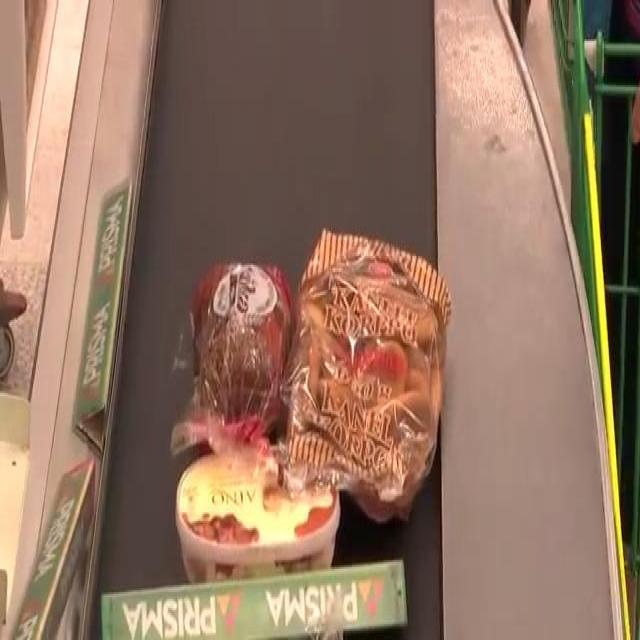food-box: (294, 229, 448, 528), (178, 449, 358, 573), (181, 258, 294, 446)
